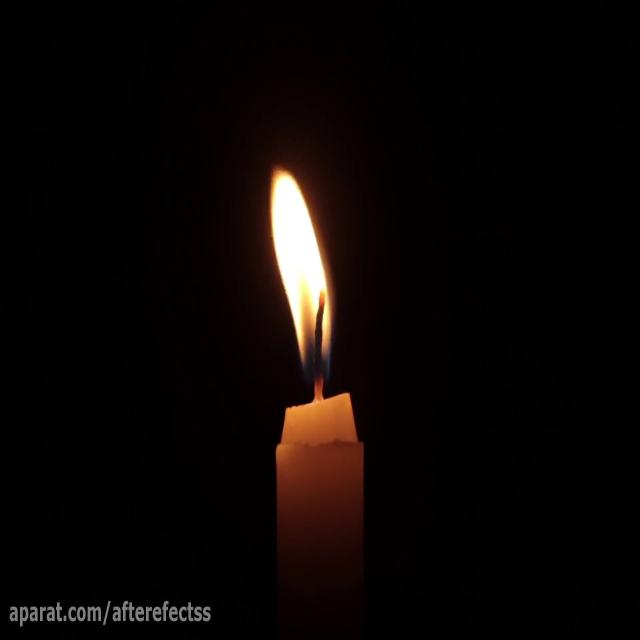fire: (264, 162, 340, 398)
